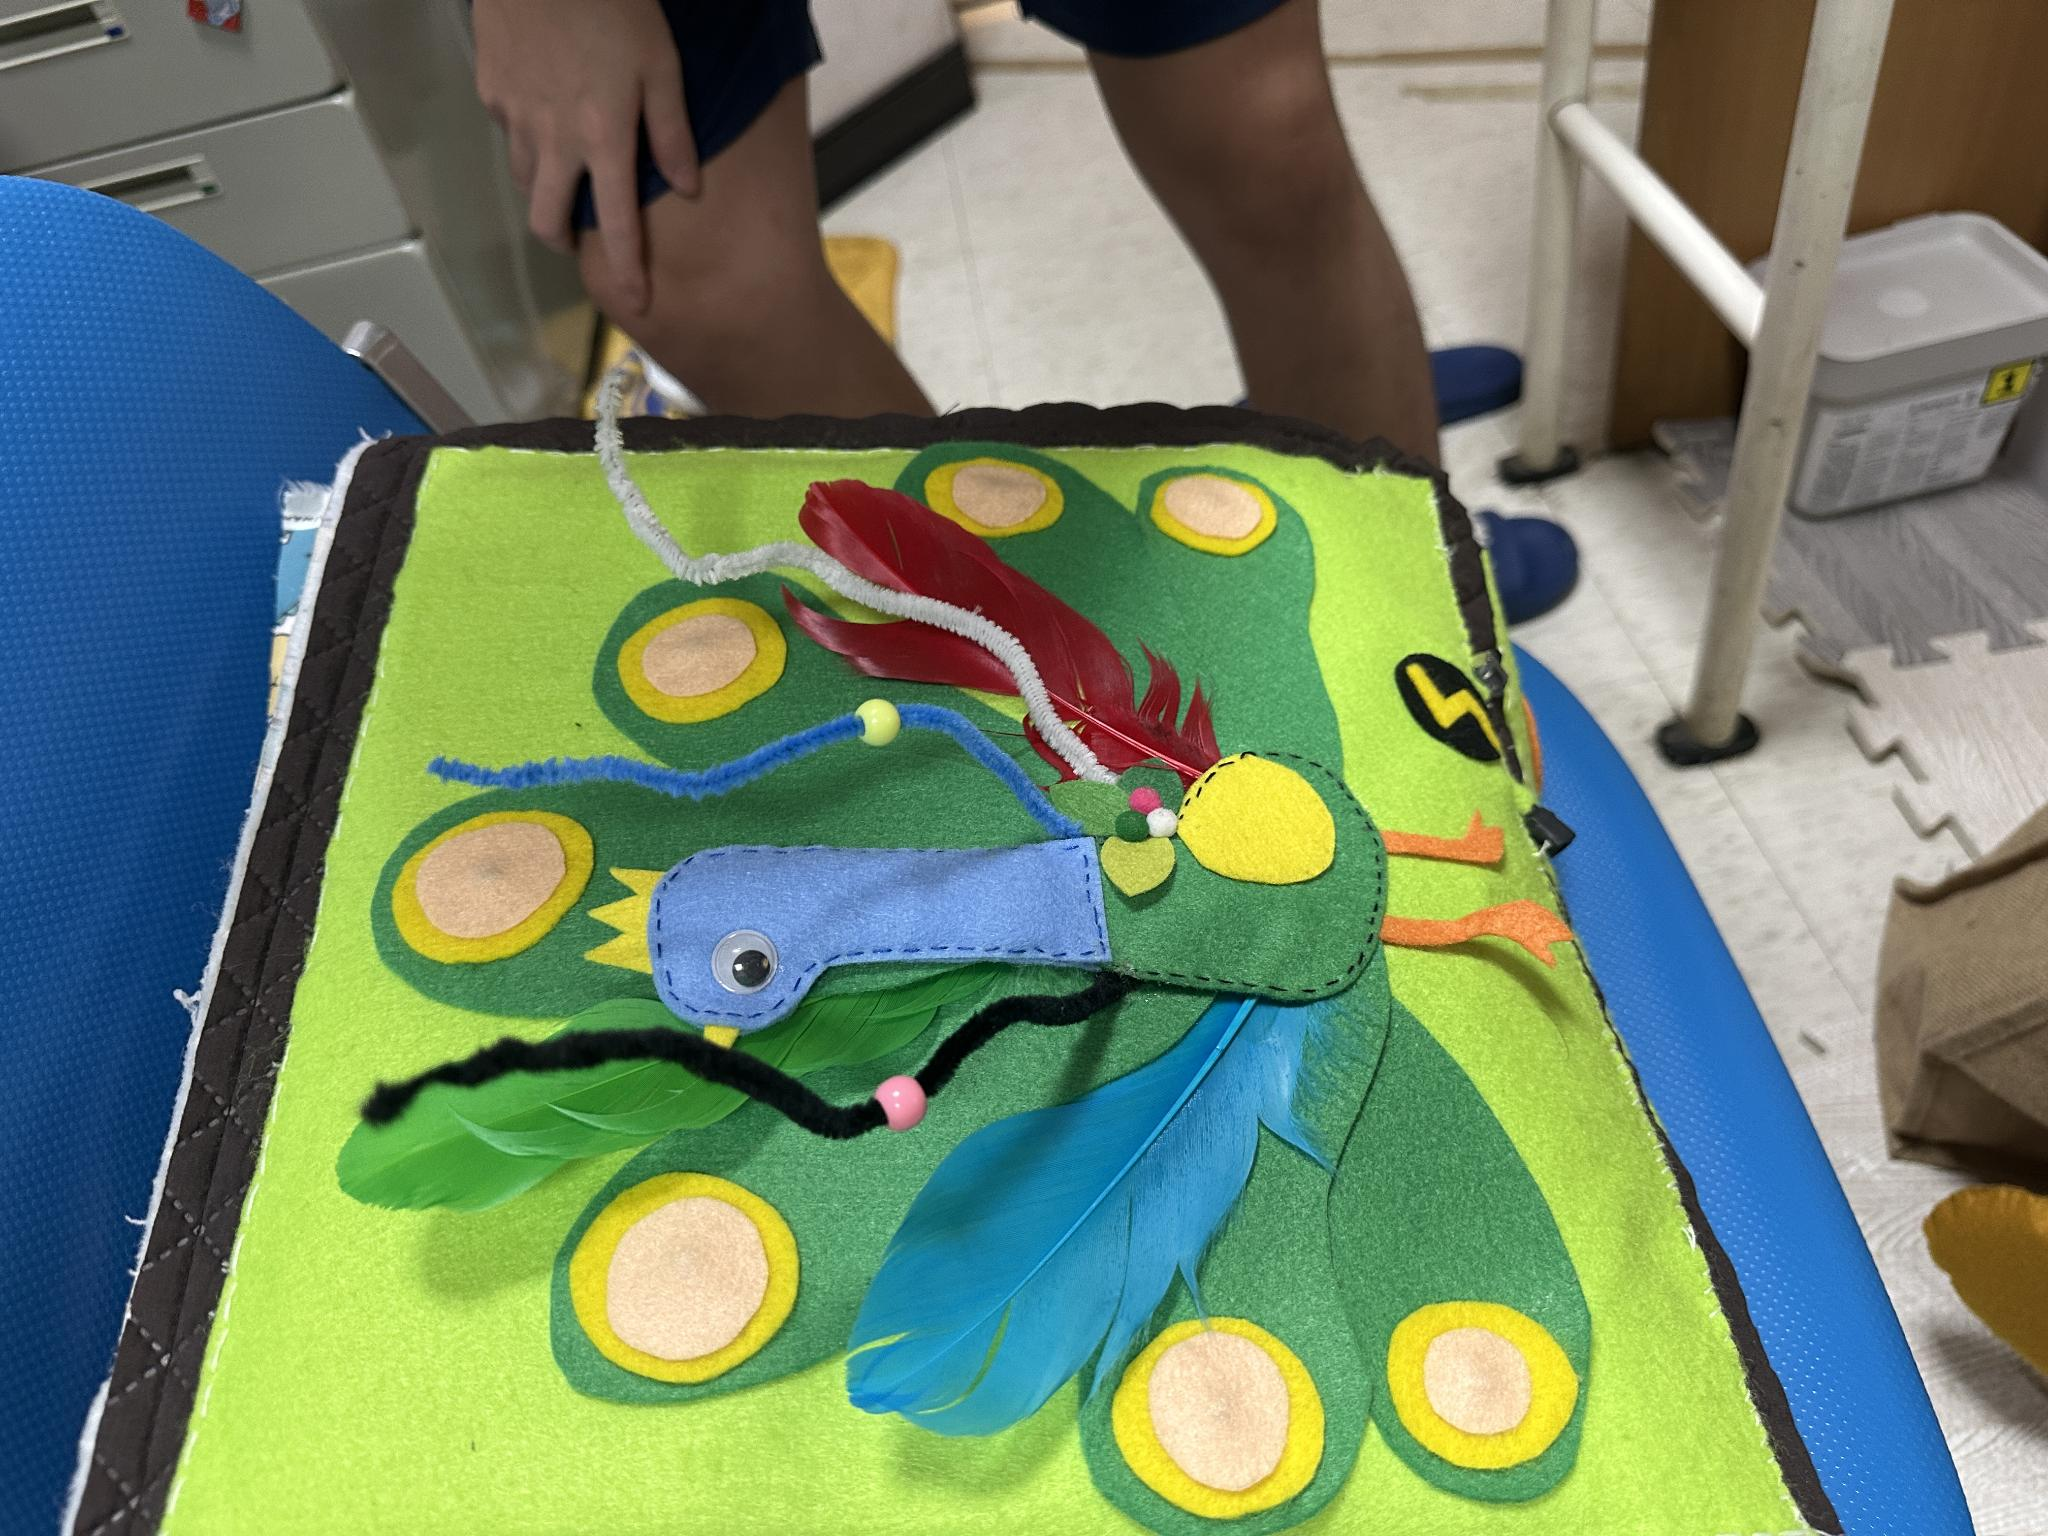bead: (863, 1049, 947, 1144), (839, 668, 918, 768)
